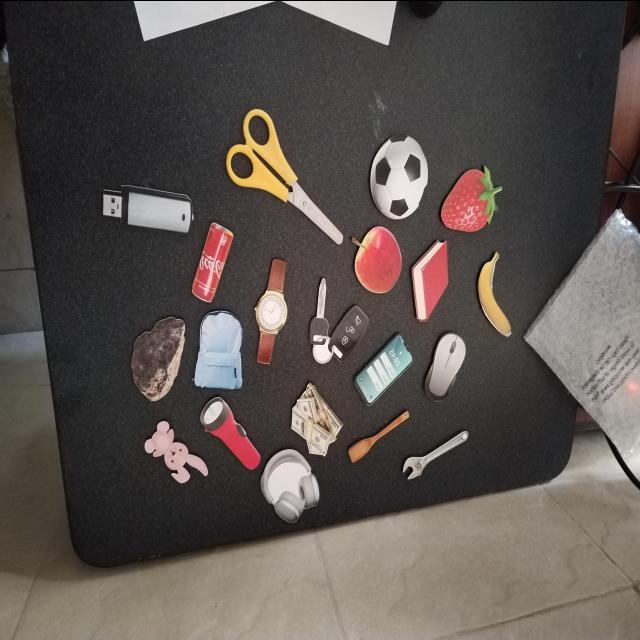Other Objects: (226, 108, 344, 244), (293, 276, 372, 381), (239, 254, 304, 368), (197, 390, 264, 484), (369, 133, 430, 220), (101, 180, 195, 234), (352, 329, 416, 408), (131, 316, 186, 401), (260, 447, 321, 523), (144, 420, 209, 484), (420, 325, 470, 407), (194, 309, 244, 389), (291, 381, 344, 456), (400, 428, 473, 482), (347, 406, 412, 463), (351, 224, 402, 293), (191, 221, 234, 302), (477, 251, 512, 337)
